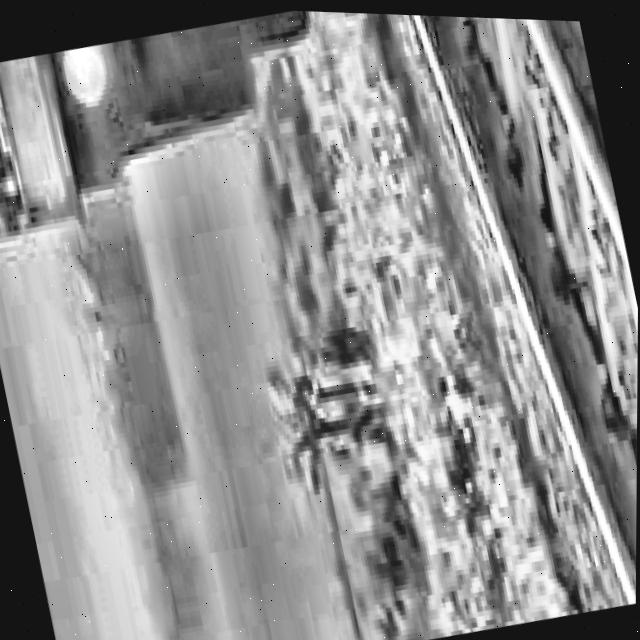Lokomotif: (0, 0, 478, 319)
